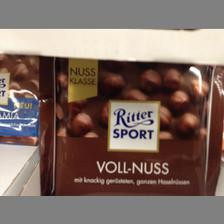Schokolade: (37, 54, 223, 194)
